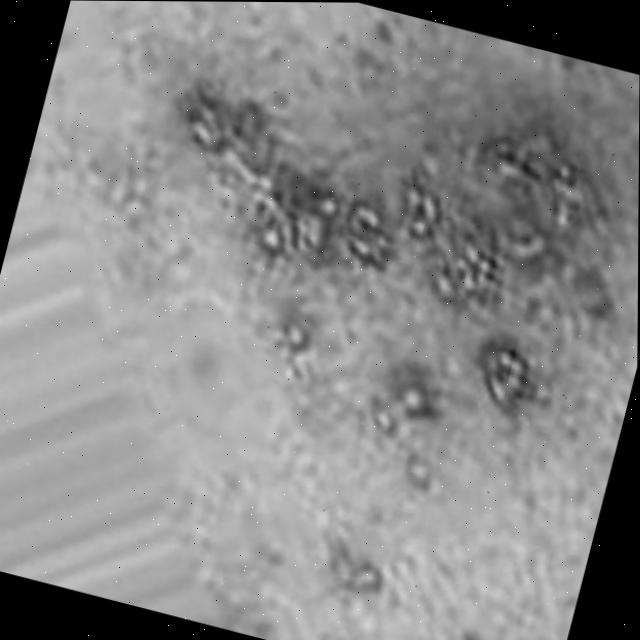Shingles: (127, 36, 609, 414), (621, 123, 639, 300)
